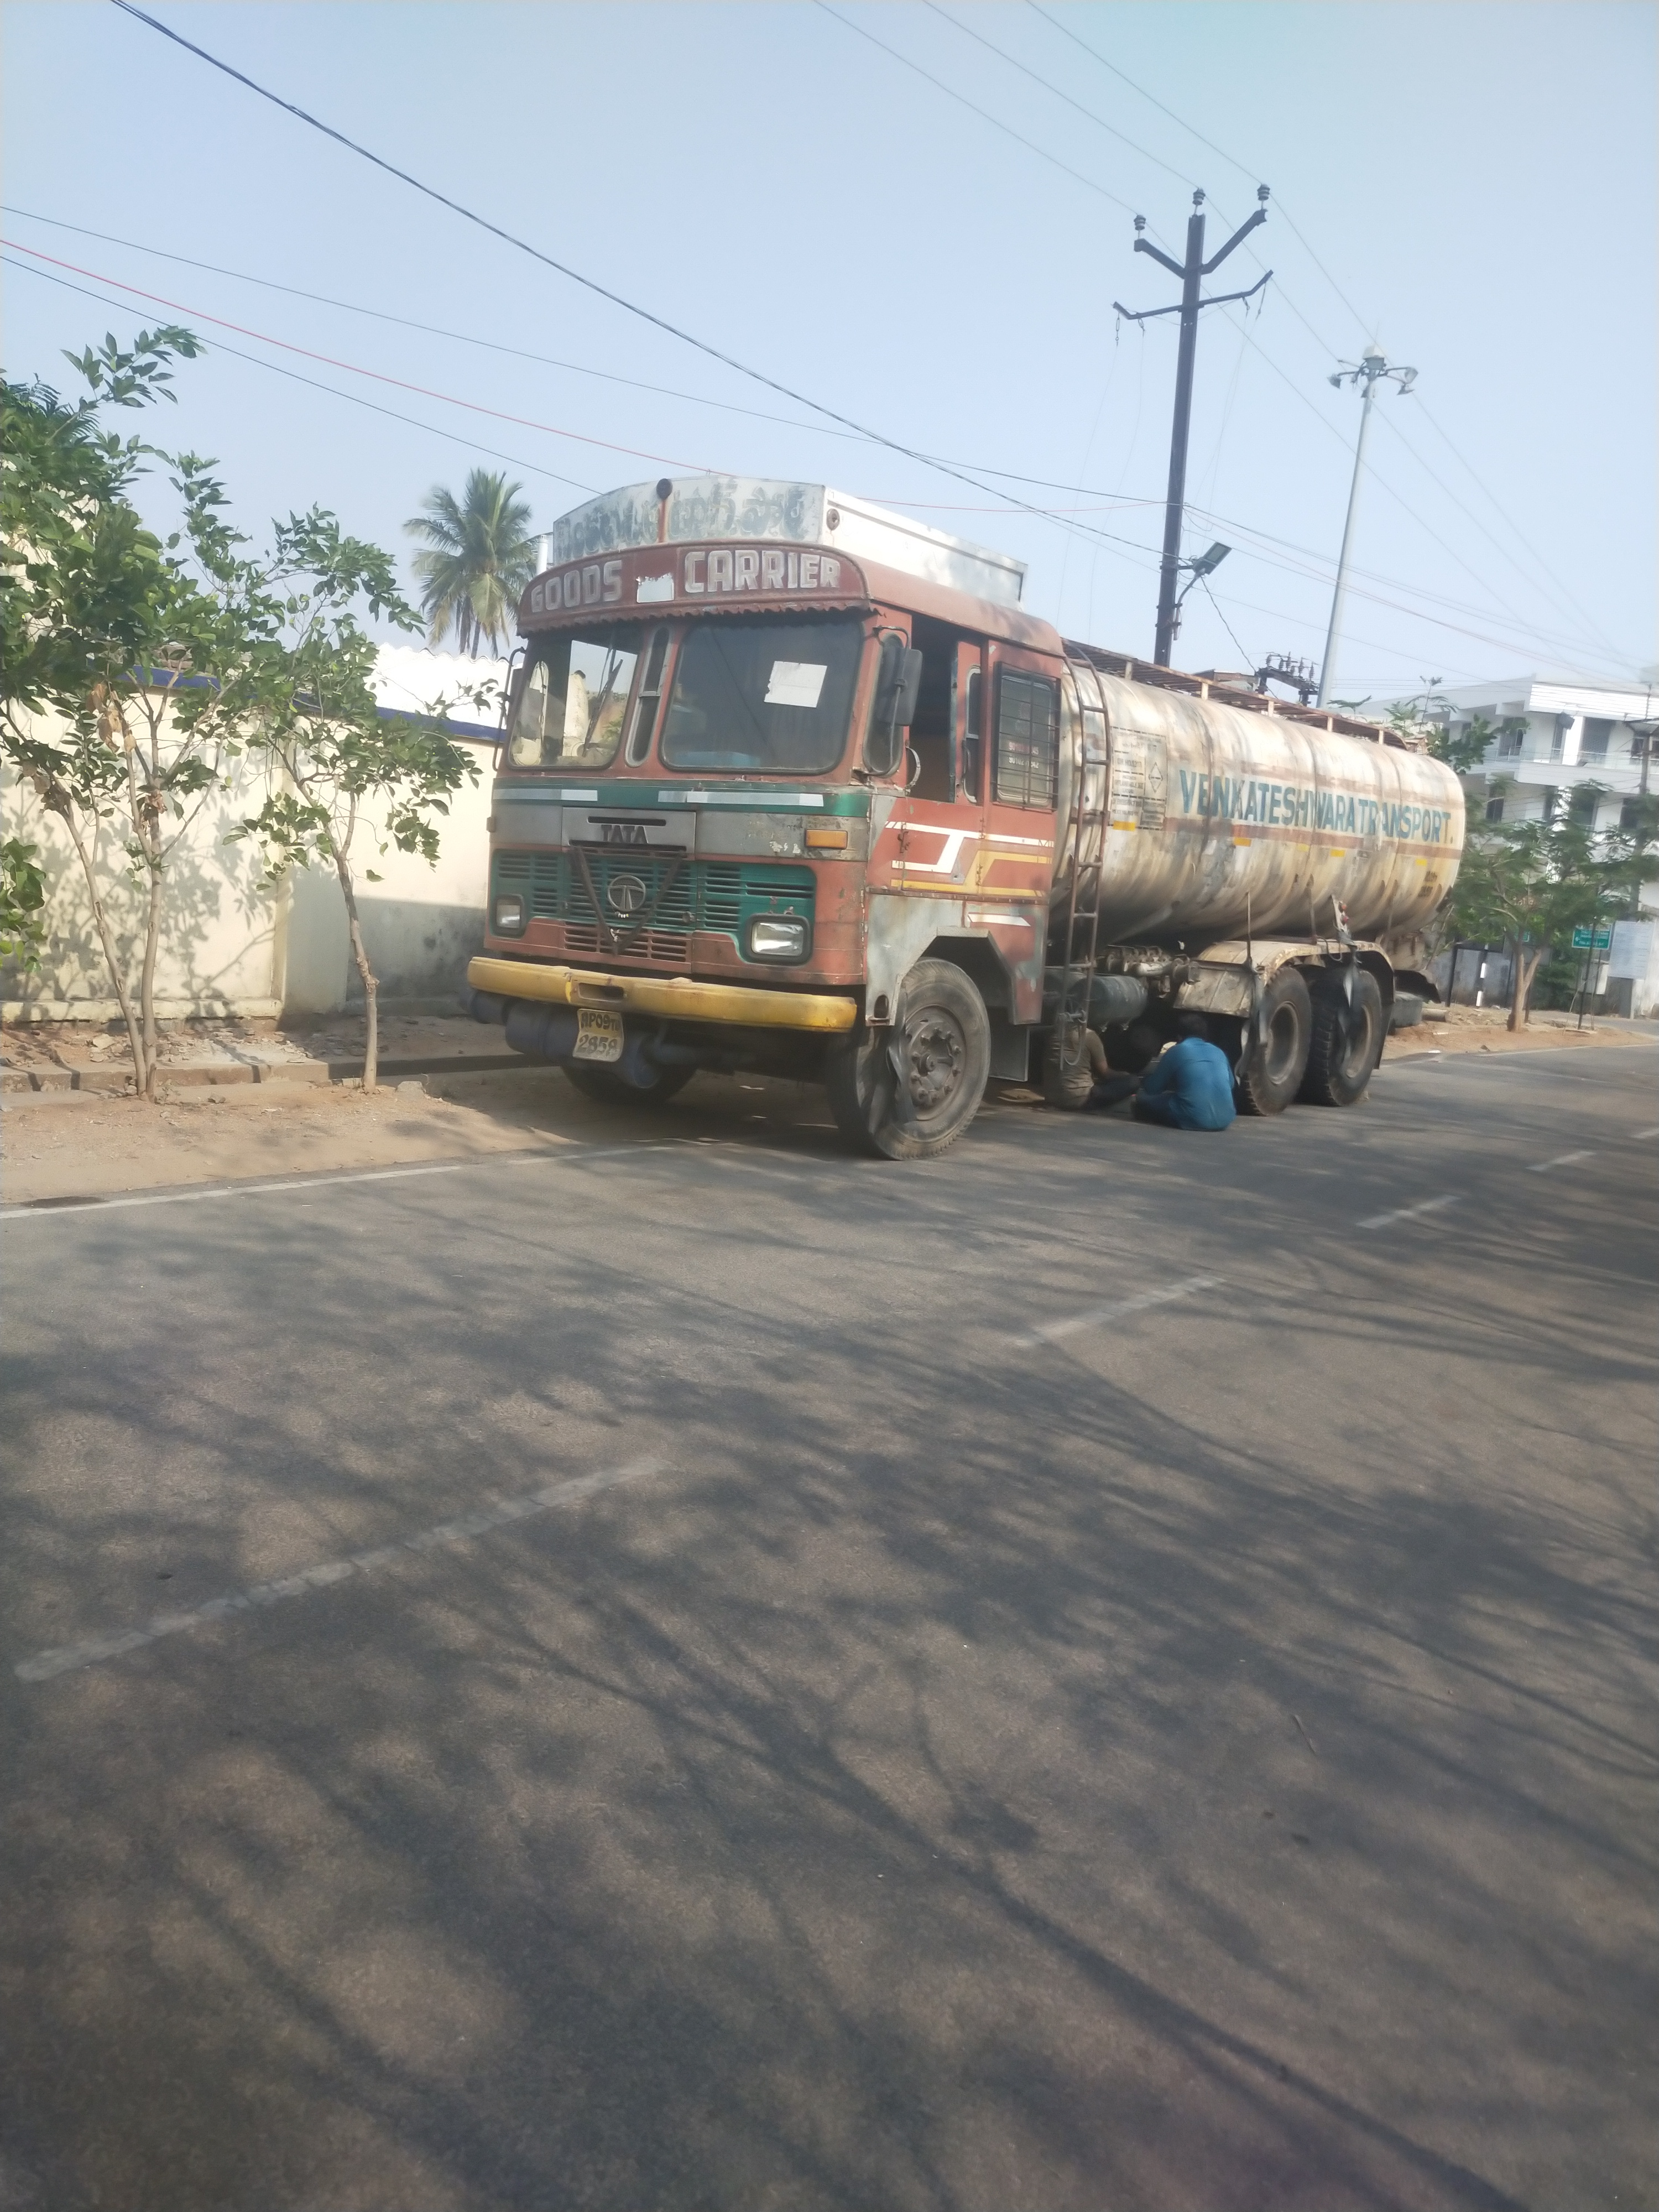truck: (465, 472, 1469, 1165)
